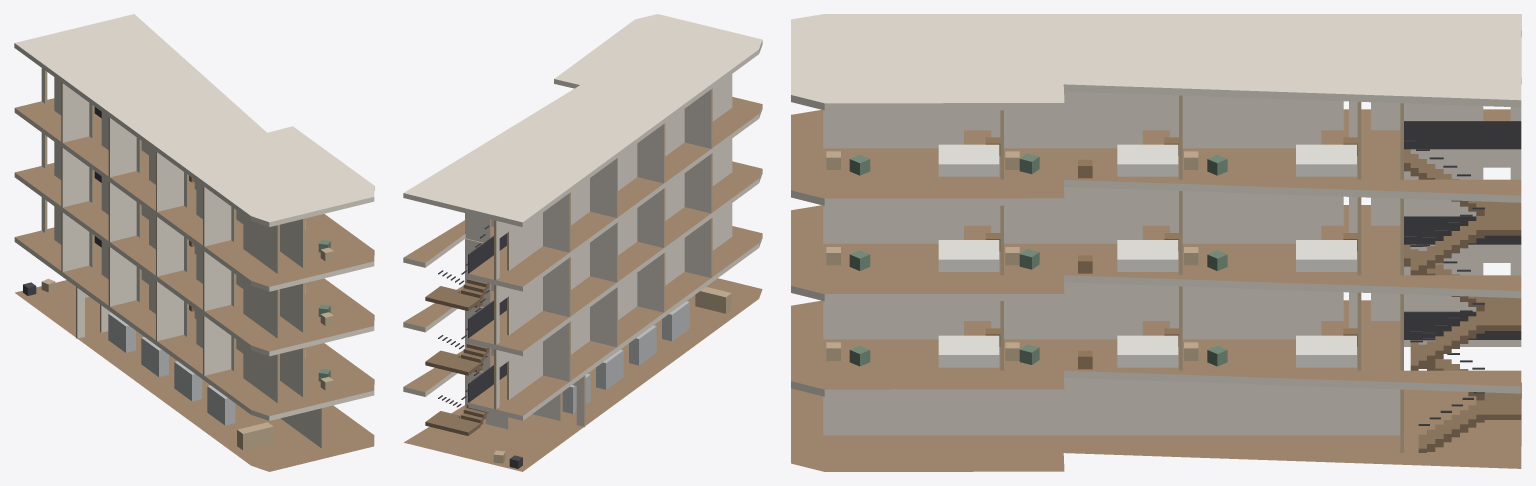
The model's file is interior.glb.
3 renders of one model, left to right at view 1: azimuth 30°, elevation 25°; view 2: azimuth 150°, elevation 25°; view 3: azimuth 270°, elevation 25°, orthographic. The views are drawn at different scales.
Parts seen in each view (by area): view 1: slabs, partitions, coarse-s0; view 2: slabs, partitions, stair, coarse-s0; view 3: slabs, partitions, stair, coarse-s1, coarse-s3, coarse-s2.
Boxes of the visible parts, x1,y1,x2,y2 form: slabs: [14, 14, 374, 471]; partitions: [41, 68, 323, 448]; coarse-s0: [23, 278, 273, 450]; slabs: [403, 14, 762, 471]; partitions: [465, 74, 732, 429]; stair: [425, 225, 506, 435]; coarse-s0: [493, 287, 731, 468]; slabs: [791, 14, 1521, 471]; partitions: [823, 91, 1521, 452]; stair: [1404, 121, 1521, 452]; coarse-s1: [826, 328, 1357, 369]; coarse-s3: [826, 137, 1357, 178]; coarse-s2: [826, 233, 1357, 273].
Bounding box in the file's own units: 6.92 × 13.35 × 23.95.
